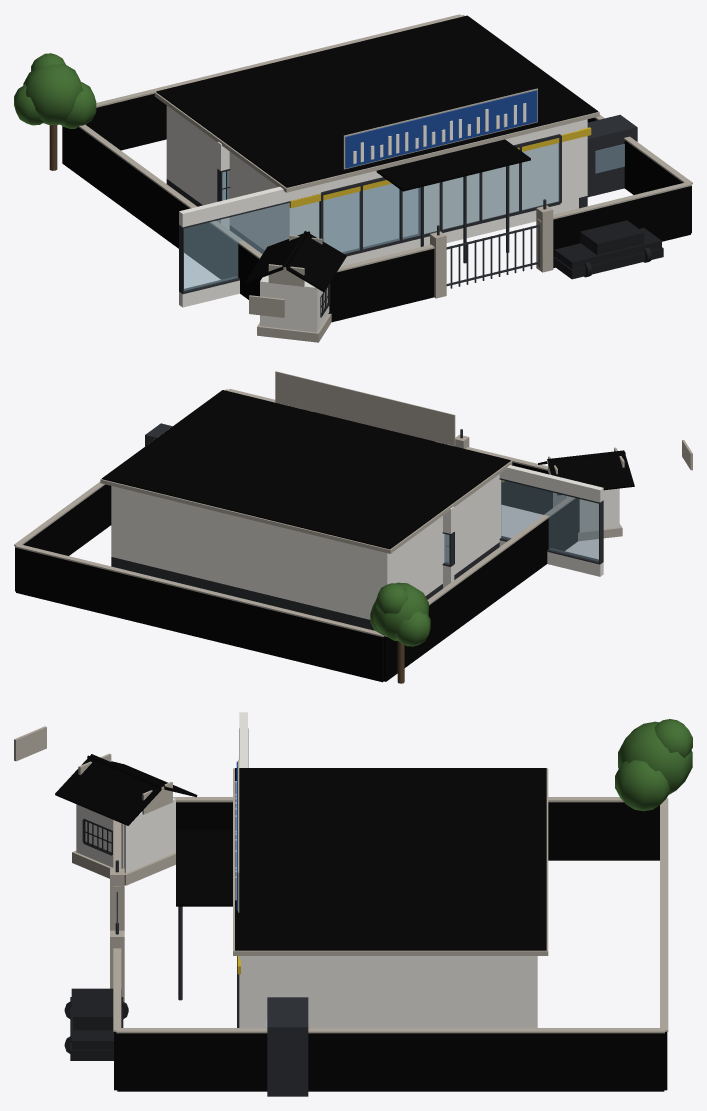
File: bank.glb
The picture shows the model from 3 angles, top to bottom: view 1: azimuth 30°, elevation 25°; view 2: azimuth 150°, elevation 25°; view 3: azimuth 270°, elevation 25°; orthographic projection. The views are drawn at different scales.
Parts seen in each view (by area): view 1: object 134, object 2, glass_sheet, object 6, object 165, object 5, object 140, object 167, object 168, object 24, object 164, atm_pod (+29 smaller); view 2: object 134, object 2, object 164, object 165, object 141, object 6, object 1, object 166, object 215, object 169, object 4, object 135 (+9 smaller); view 3: object 134, object 166, object 2, object 165, object 24, atm_pod, object 216, object 195, object 171, object 232, object 233, object 169 (+12 smaller).
Part boxes in pixels (bbox=[...]): object 134: bbox=[156, 15, 597, 187]; object 2: bbox=[166, 105, 587, 251]; glass_sheet: bbox=[323, 143, 559, 253]; object 6: bbox=[184, 184, 417, 290]; object 165: bbox=[62, 126, 261, 299]; object 5: bbox=[424, 121, 578, 245]; object 140: bbox=[345, 90, 537, 168]; object 167: bbox=[328, 249, 434, 322]; object 168: bbox=[553, 186, 690, 268]; object 24: bbox=[376, 139, 530, 191]; object 164: bbox=[85, 93, 166, 150]; atm_pod: bbox=[587, 114, 637, 197]; object 134: bbox=[102, 390, 510, 549]; object 2: bbox=[111, 474, 501, 619]; object 164: bbox=[16, 548, 383, 682]; object 165: bbox=[384, 498, 579, 681]; object 141: bbox=[275, 371, 455, 446]; object 6: bbox=[501, 480, 598, 561]; object 1: bbox=[111, 542, 499, 630]; object 166: bbox=[15, 484, 111, 591]; object 215: bbox=[547, 450, 634, 495]; object 169: bbox=[15, 544, 383, 637]; object 4: bbox=[499, 465, 603, 502]; object 135: bbox=[100, 479, 390, 553]; object 134: bbox=[235, 768, 546, 950]; object 166: bbox=[117, 1033, 664, 1091]; object 2: bbox=[243, 956, 537, 1027]; object 165: bbox=[176, 802, 659, 860]; object 24: bbox=[176, 829, 232, 906]; atm_pod: bbox=[267, 997, 308, 1096]; object 216: bbox=[55, 754, 164, 825]; object 195: bbox=[76, 798, 175, 873]; object 171: bbox=[116, 1028, 664, 1033]; object 232: bbox=[618, 721, 692, 794]; object 233: bbox=[615, 760, 670, 811]; object 169: bbox=[660, 798, 668, 1031].
Size of what is drawn, in the model's own units: 22.61 by 5.99 by 23.09.
